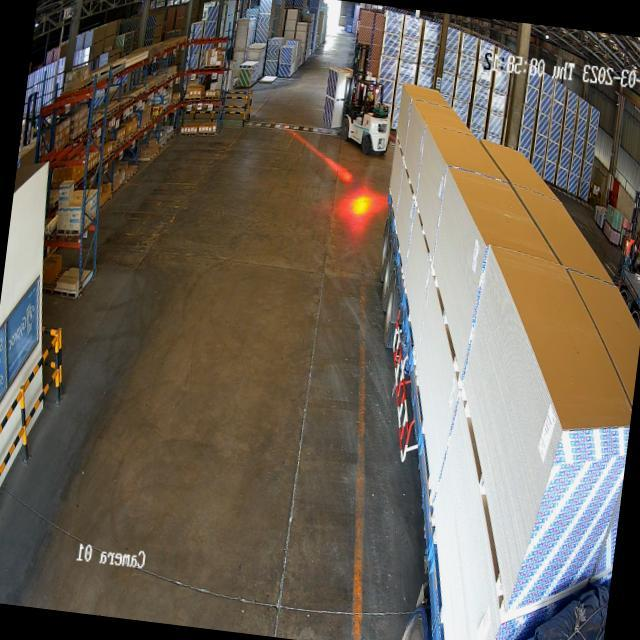forklift: (338, 72, 397, 156)
